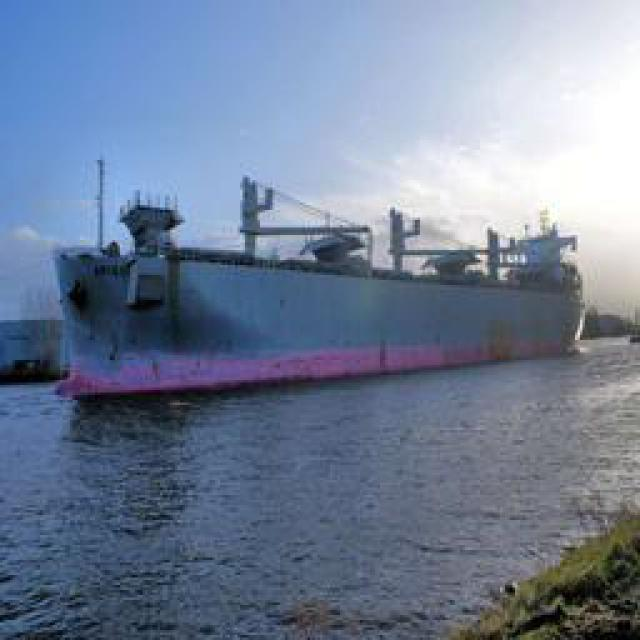Ship: (50, 185, 583, 400)
